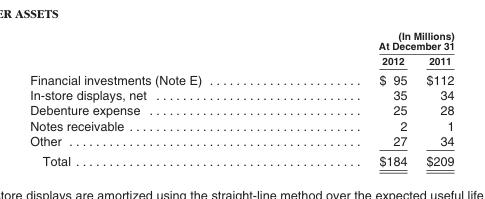table: (29, 28, 454, 167)
table column: (29, 28, 289, 167), (289, 28, 416, 167), (416, 28, 454, 167)
table column header: (29, 28, 454, 69)
table row: (29, 28, 454, 52), (29, 69, 454, 87), (29, 132, 454, 150), (29, 52, 454, 69), (29, 150, 454, 167), (29, 87, 454, 102), (29, 102, 454, 117), (29, 117, 454, 132)
table spanning cell: (289, 28, 454, 52)
